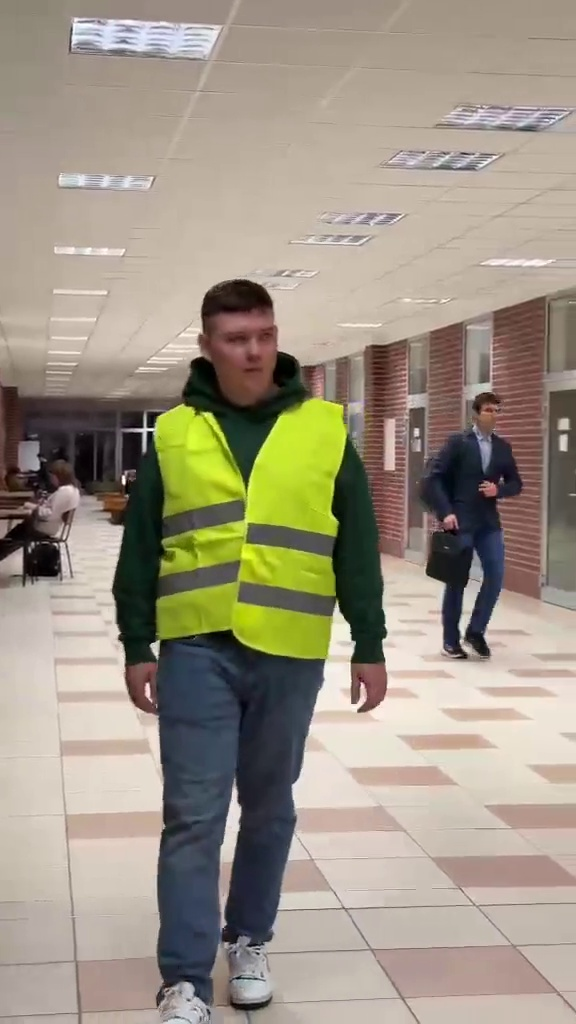no vest: (419, 385, 525, 664), (0, 453, 87, 581)
vest: (110, 283, 383, 1019)
